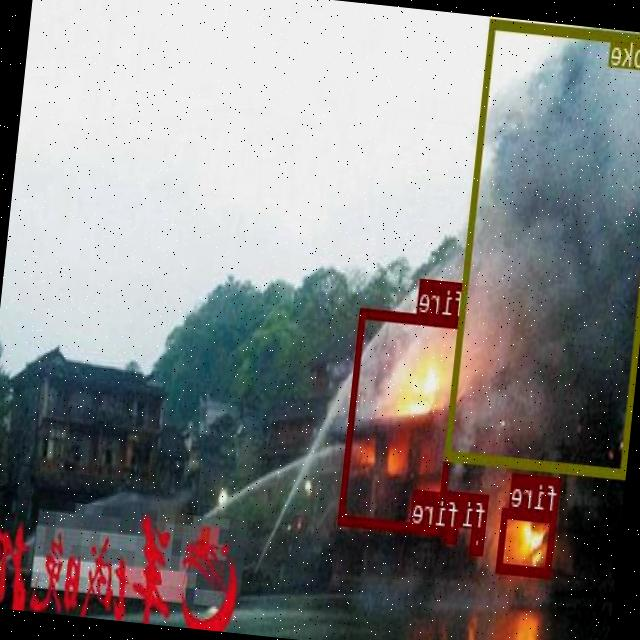fire: (338, 306, 466, 533), (498, 508, 556, 576), (471, 527, 486, 553), (445, 528, 459, 542)
smoke: (445, 17, 640, 476)
